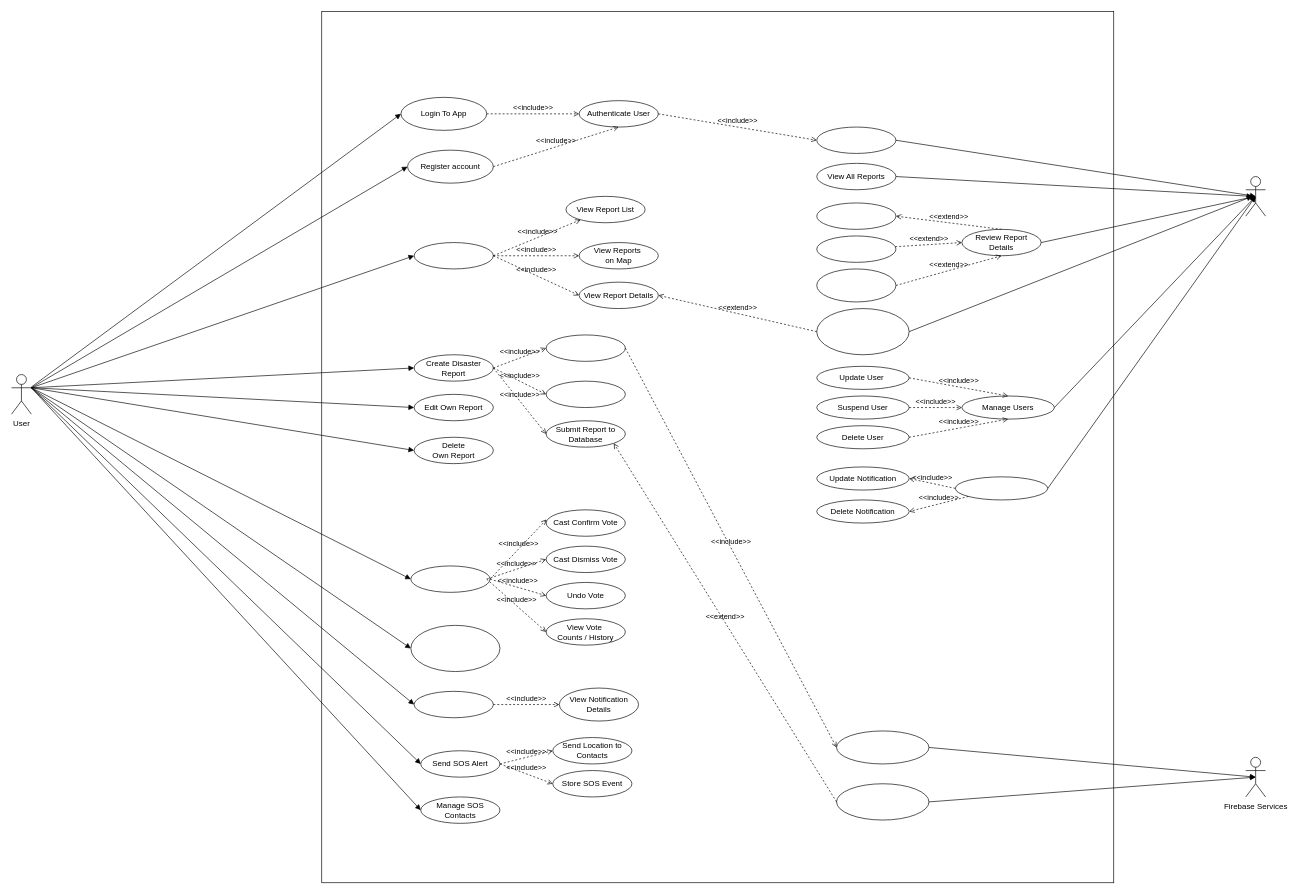
This 1299x894 diagram has some shape labels left out. Each missing label, with the centre of its shape:
Admin: the point at 1255,196
Admin Login: the point at 856,139
Auto-Fetch User Location: the point at 585,394
Capture/Upload Media: the point at 585,347
Delete Inappropriate Media: the point at 862,331
Manage Notifications: the point at 1001,488
Mark Report as False Alarm: the point at 856,285
Mark Report as Resolved: the point at 856,248
Receive Notifications: the point at 453,704
Report Abuse / Flag Content: the point at 455,648
Send Push Notification: the point at 882,801
Store Media Files: the point at 882,747
Verify Report: the point at 856,215
View Disaster Reports: the point at 453,255
Vote on Report: the point at 450,578
